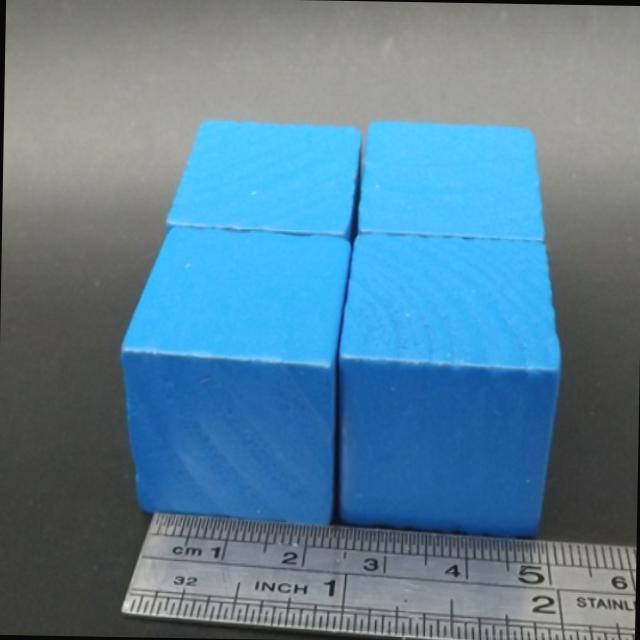bluecube: (121, 225, 350, 527), (339, 234, 561, 539), (163, 118, 361, 240), (358, 119, 545, 242)
